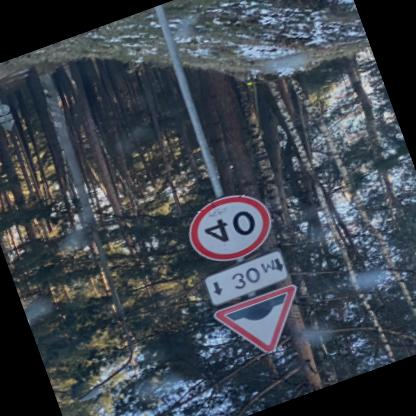speedlimit: (178, 186, 277, 273)
